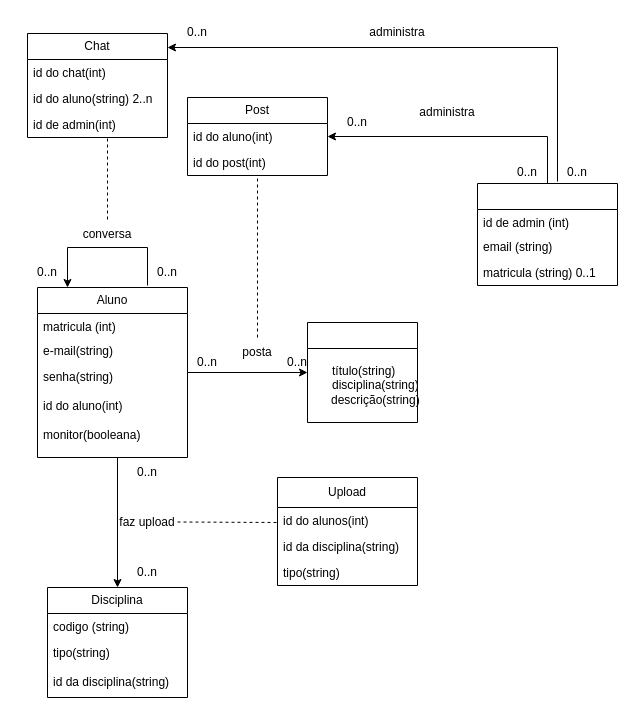
The diagram is 635 pixels wide and 717 high, and some of its shapes have lost their labels. The shapes that lost their labels are listed below. From the top down, each one's box as (x1, y1, x2, y2) in pixels, then its label:
(476, 182, 618, 286): Administrador
(306, 322, 418, 422): dúvida
